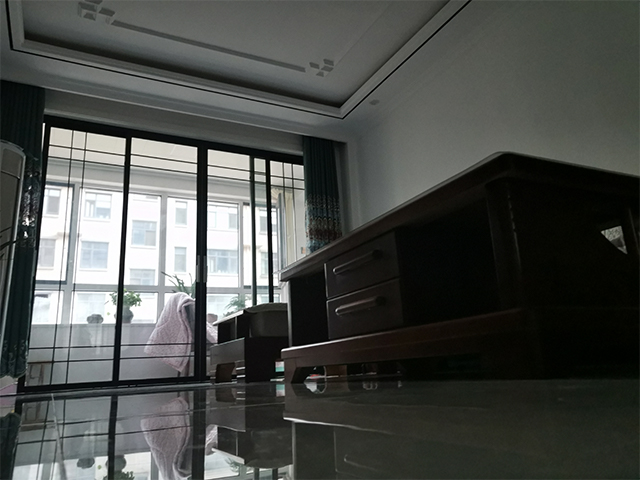curtain: (1, 75, 47, 381)
sofa: (207, 300, 290, 387)
table: (275, 147, 640, 387)
